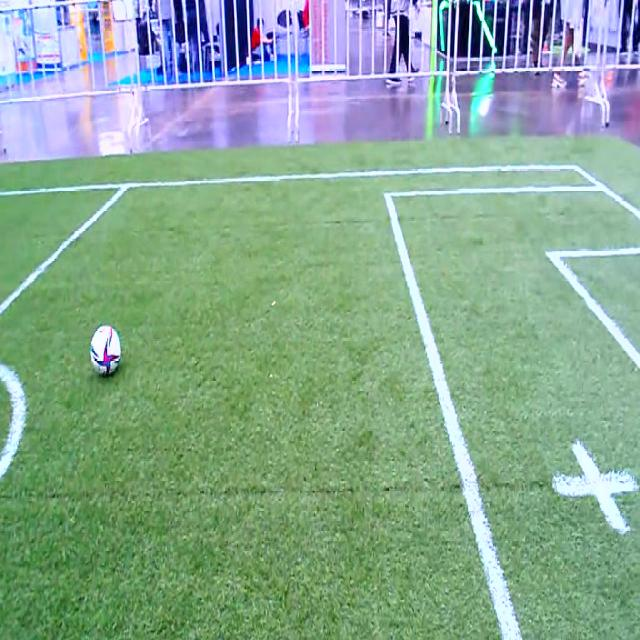ball: (90, 325, 121, 377)
